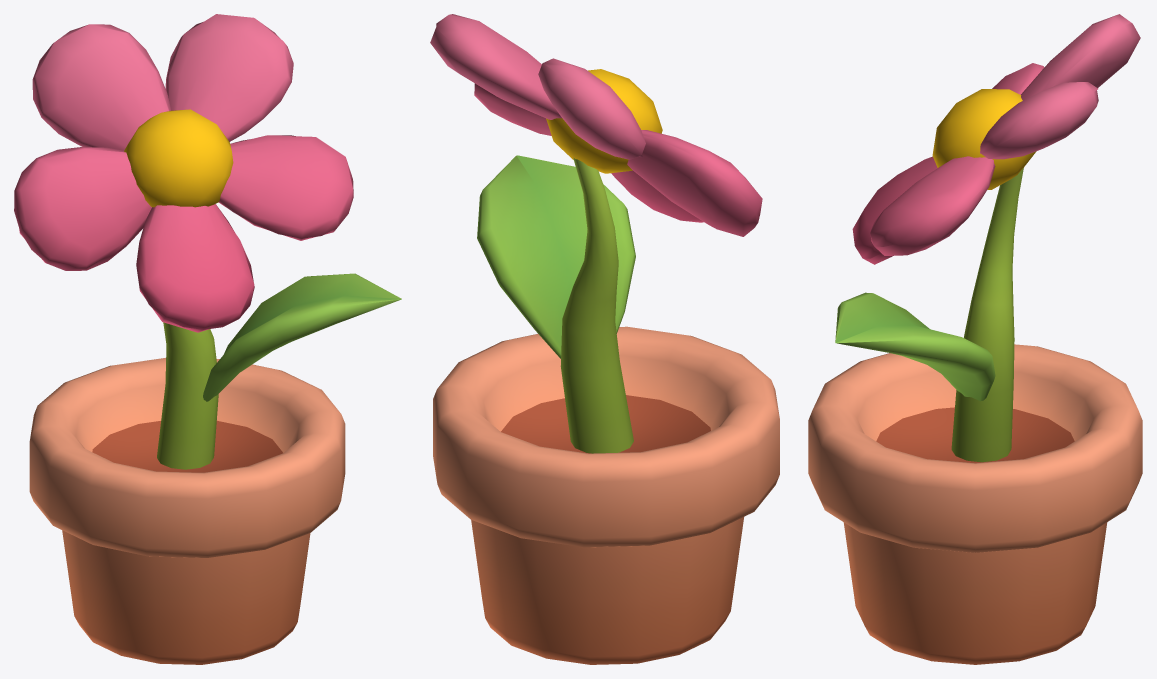
Rendered from cute-furniture-glb-plants-05.glb.
3 views of the same model, side by side, from view 1: azimuth 30°, elevation 25°; view 2: azimuth 150°, elevation 25°; view 3: azimuth 270°, elevation 25° (orthographic). The views are drawn at different scales.
Visible parts, largest first — view 1: Plants_05; view 2: Plants_05; view 3: Plants_05.
Boxes of the visible parts, <box> form: Plants_05: <box>14,14,401,664</box>; Plants_05: <box>430,14,779,664</box>; Plants_05: <box>808,14,1142,664</box>.
Bounding box in the file's own units: 0.1349 × 0.2403 × 0.124.
1 material, 1 textured.
